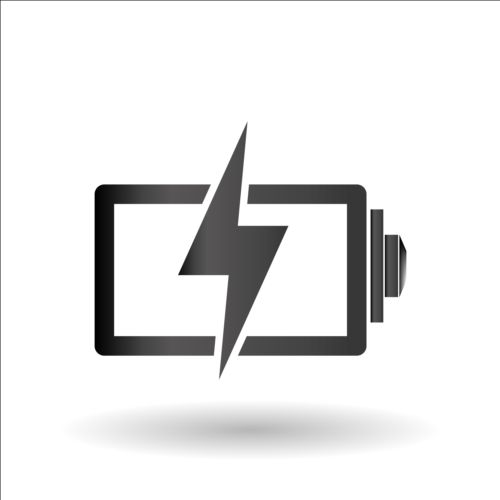charging sign: (54, 84, 448, 431)
